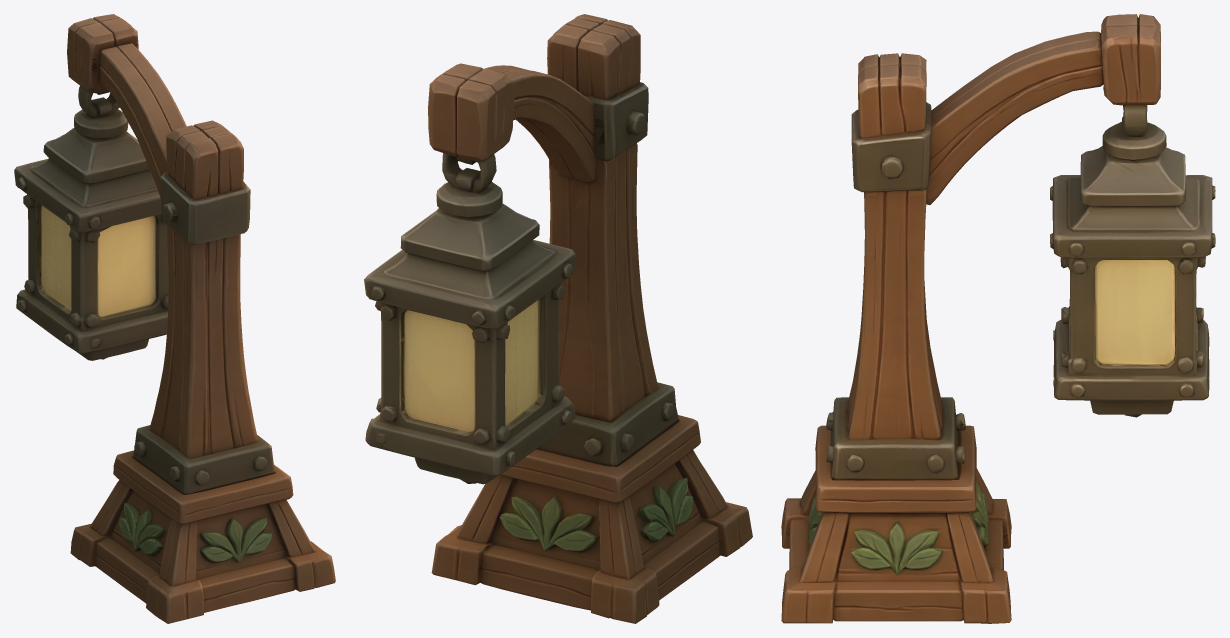
File: road_lamp.glb
3 views of the same model, side by side, from view 1: azimuth 30°, elevation 25°; view 2: azimuth 150°, elevation 25°; view 3: azimuth 270°, elevation 25° (orthographic). The views are drawn at different scales.
Parts seen in each view (by area): view 1: model; view 2: model; view 3: model.
Part boxes in pixels (<box>): model: <box>14,14,335,623</box>; model: <box>364,14,752,623</box>; model: <box>781,14,1215,623</box>.
Size of the model in its own units: 0.7152 by 1.9 by 1.36.
Materials: 1 (1 with a texture image).
